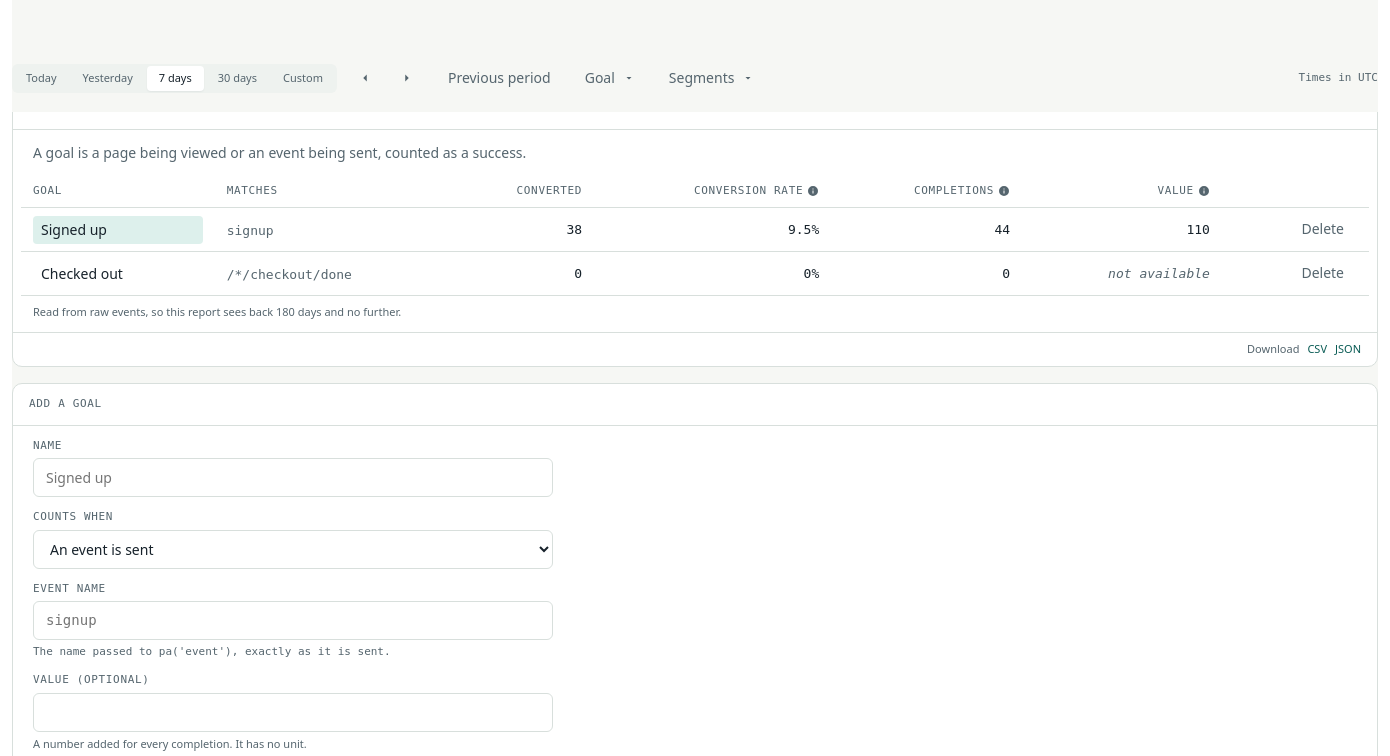
Test: Goals, deleting one › asks first, and says that nothing is lost
Expected: the text "Signed up" is shown, [41, 219, 107, 240]
Click the button "Delete" in the row of "signup": coordinates (1323, 230) [1288, 212, 1357, 247]
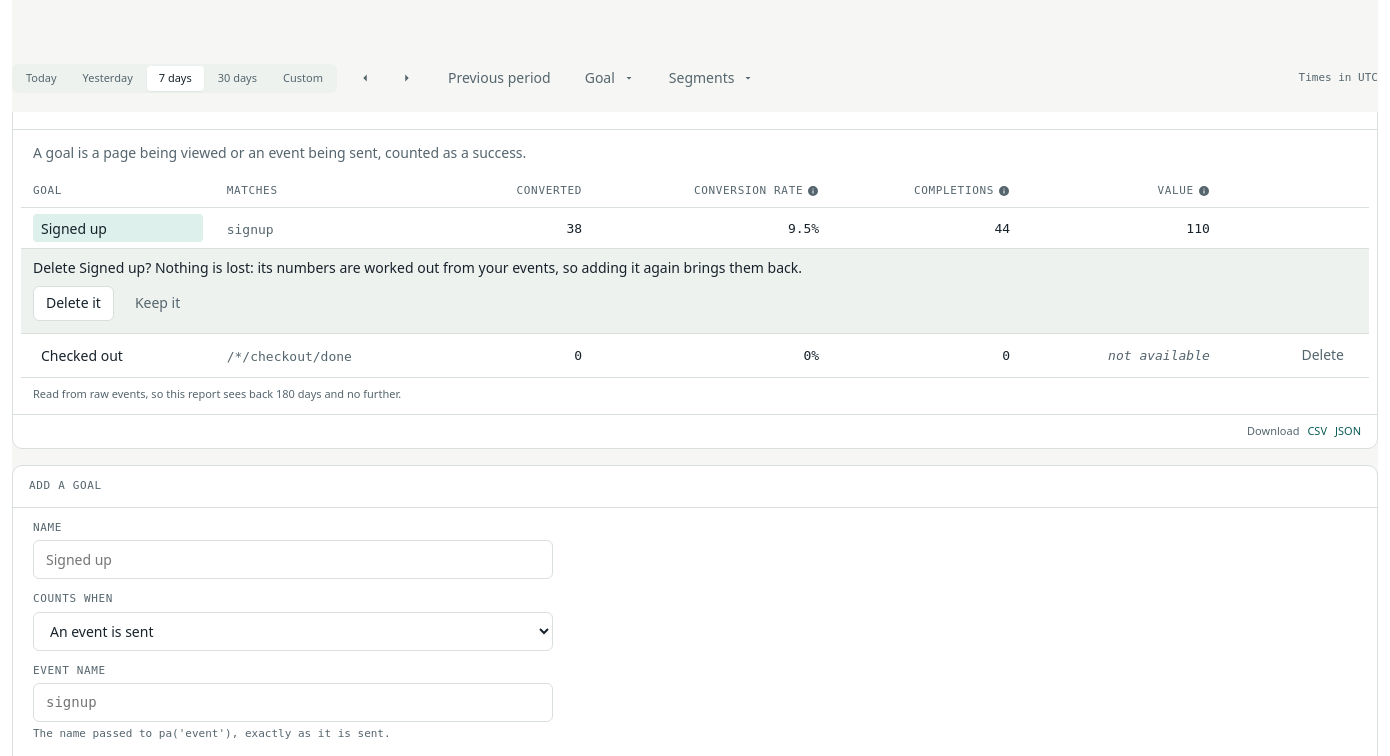
Expected: the text "Delete Signed up? Nothing is lost: its numbers are worked out from your events, so adding it again brings them back." is shown, [33, 258, 802, 277]
Click the button "Keep it": coordinates (158, 304) [122, 286, 193, 321]
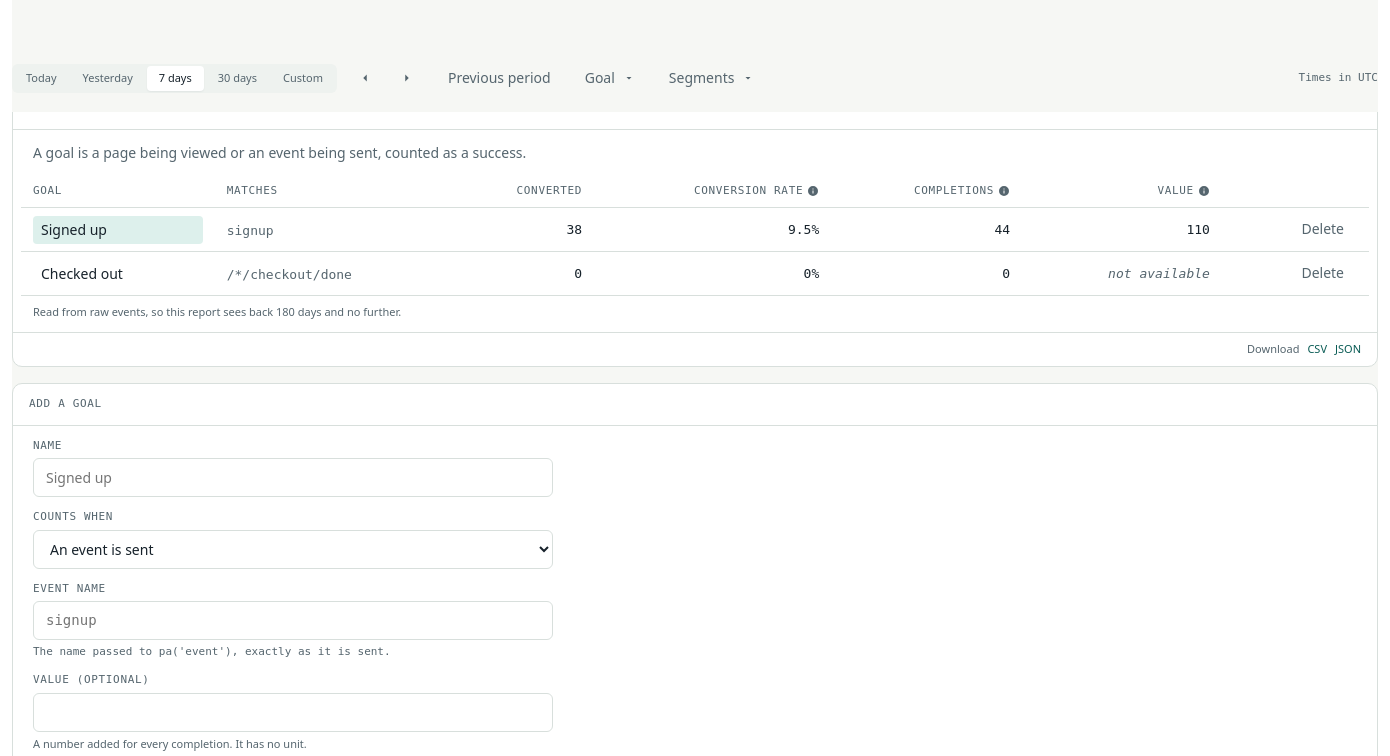
Expected: the text "Nothing is lost" is gone
